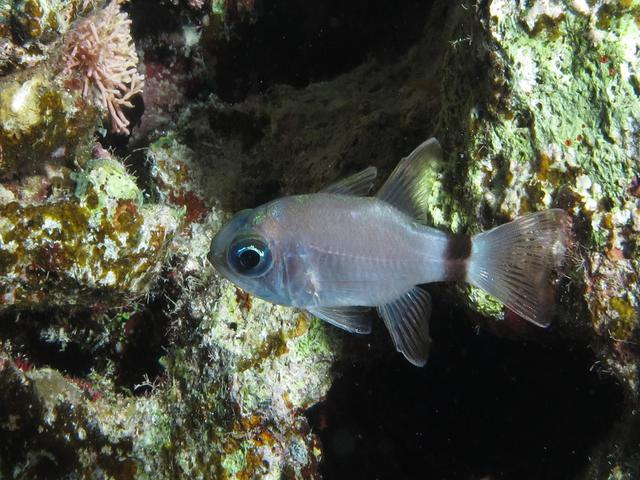fish: (193, 137, 586, 362)
